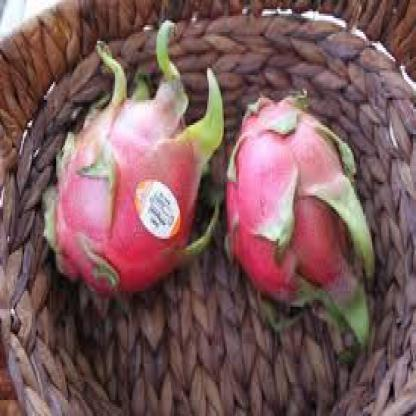dragon-fruit: (54, 98, 201, 295), (224, 103, 349, 306)
